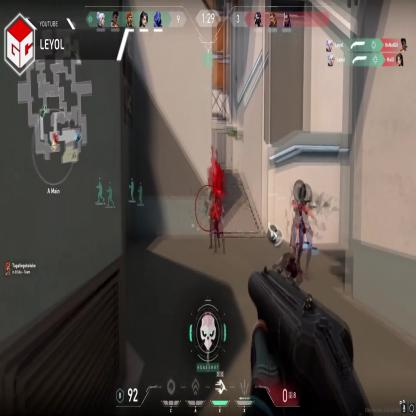enemy: (292, 190, 312, 276)
enemy_head: (297, 182, 307, 206)
